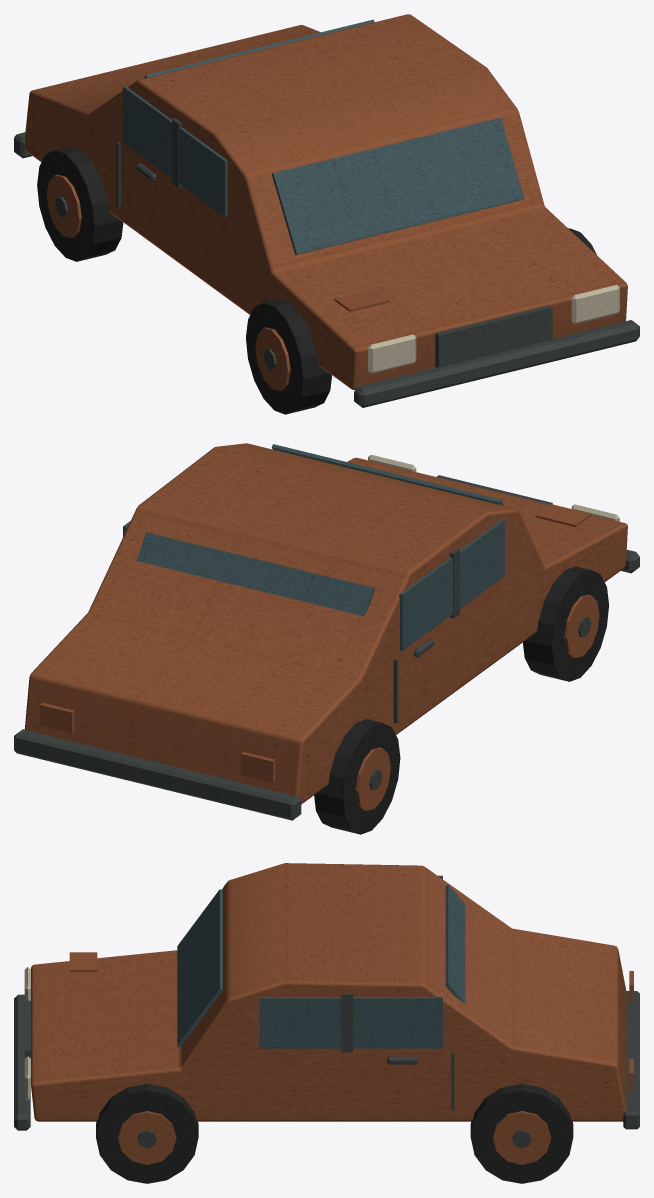
Rendered from RustyHatchback.fbx.
3 views of the same model, one above another, from view 1: azimuth 30°, elevation 25°; view 2: azimuth 150°, elevation 25°; view 3: azimuth 270°, elevation 25° (orthographic). The views are drawn at different scales.
Parts seen in each view (by area): view 1: RustyHatchback; view 2: RustyHatchback; view 3: RustyHatchback.
Boxes of the visible parts, x1,y1,x2,y2 form: RustyHatchback: (14,14,639,414); RustyHatchback: (14,443,639,834); RustyHatchback: (14,863,639,1183).
Size of the model in its own units: 236 by 155 by 451.
1 material, 1 textured.
